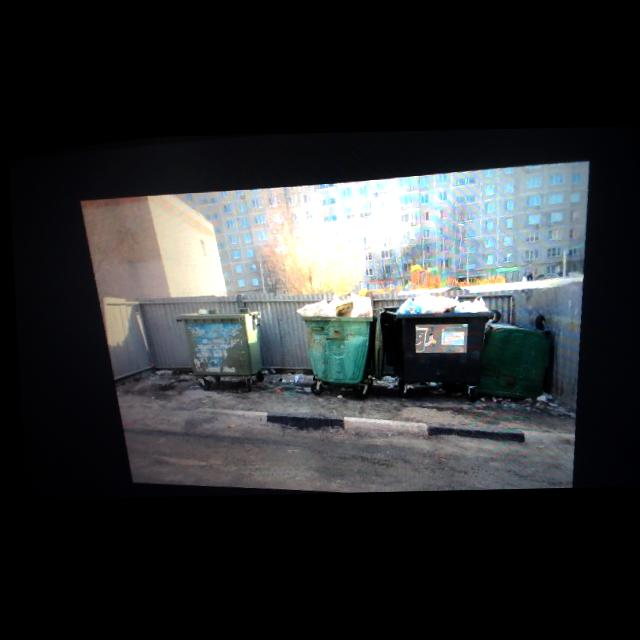Trash_Can_Empty: (172, 308, 260, 377)
Trash_Can_Full: (379, 295, 491, 385), (297, 293, 372, 386)
